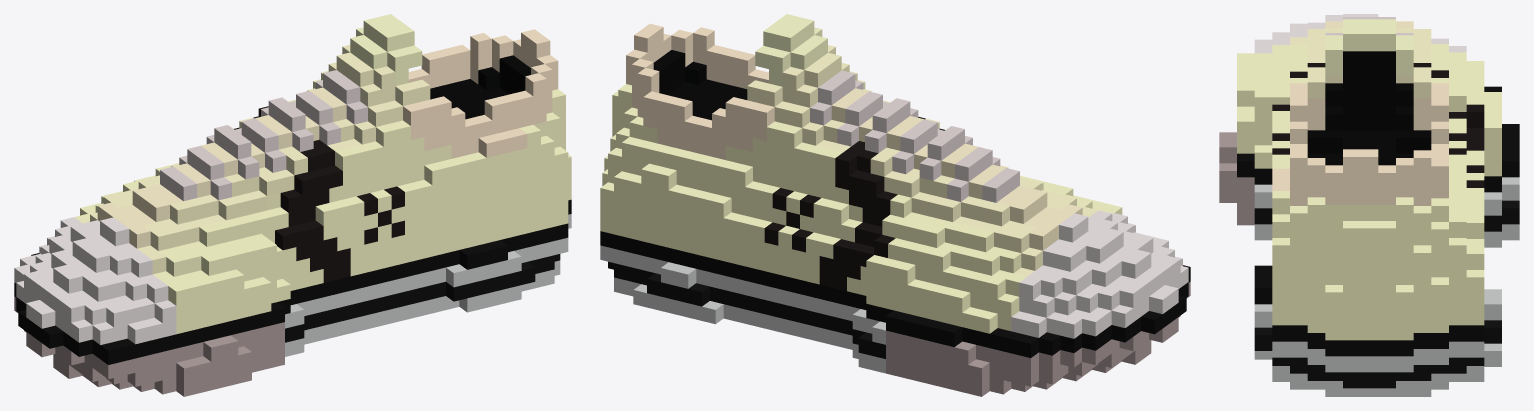
Rendered from Ivory.fbx.
3 views of the same model, side by side, from view 1: azimuth 30°, elevation 25°; view 2: azimuth 150°, elevation 25°; view 3: azimuth 270°, elevation 25° (orthographic). The views are drawn at different scales.
Parts seen in each view (by area): view 1: Untitled; view 2: Untitled; view 3: Untitled.
Part boxes in pixels (x1,y1,x2,y2): Untitled: (14,14,571,396); Untitled: (600,14,1190,396); Untitled: (1219,14,1519,396).
Bounding box in the file's own units: 390 × 180 × 170.
